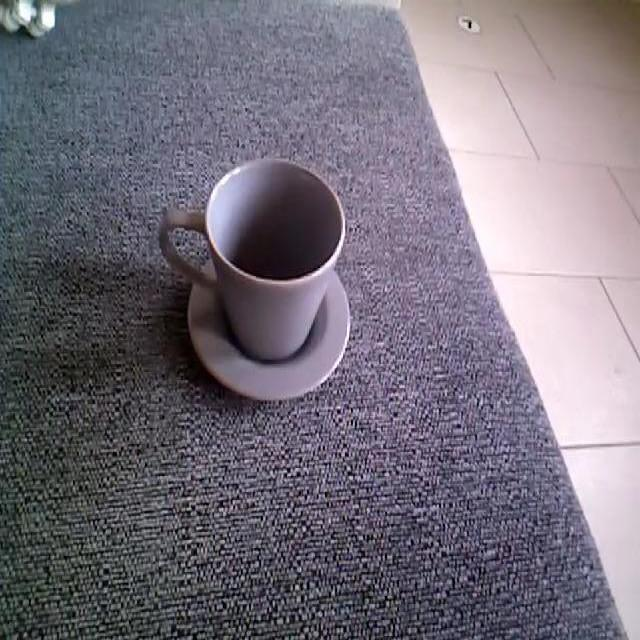cup: (154, 155, 351, 402)
